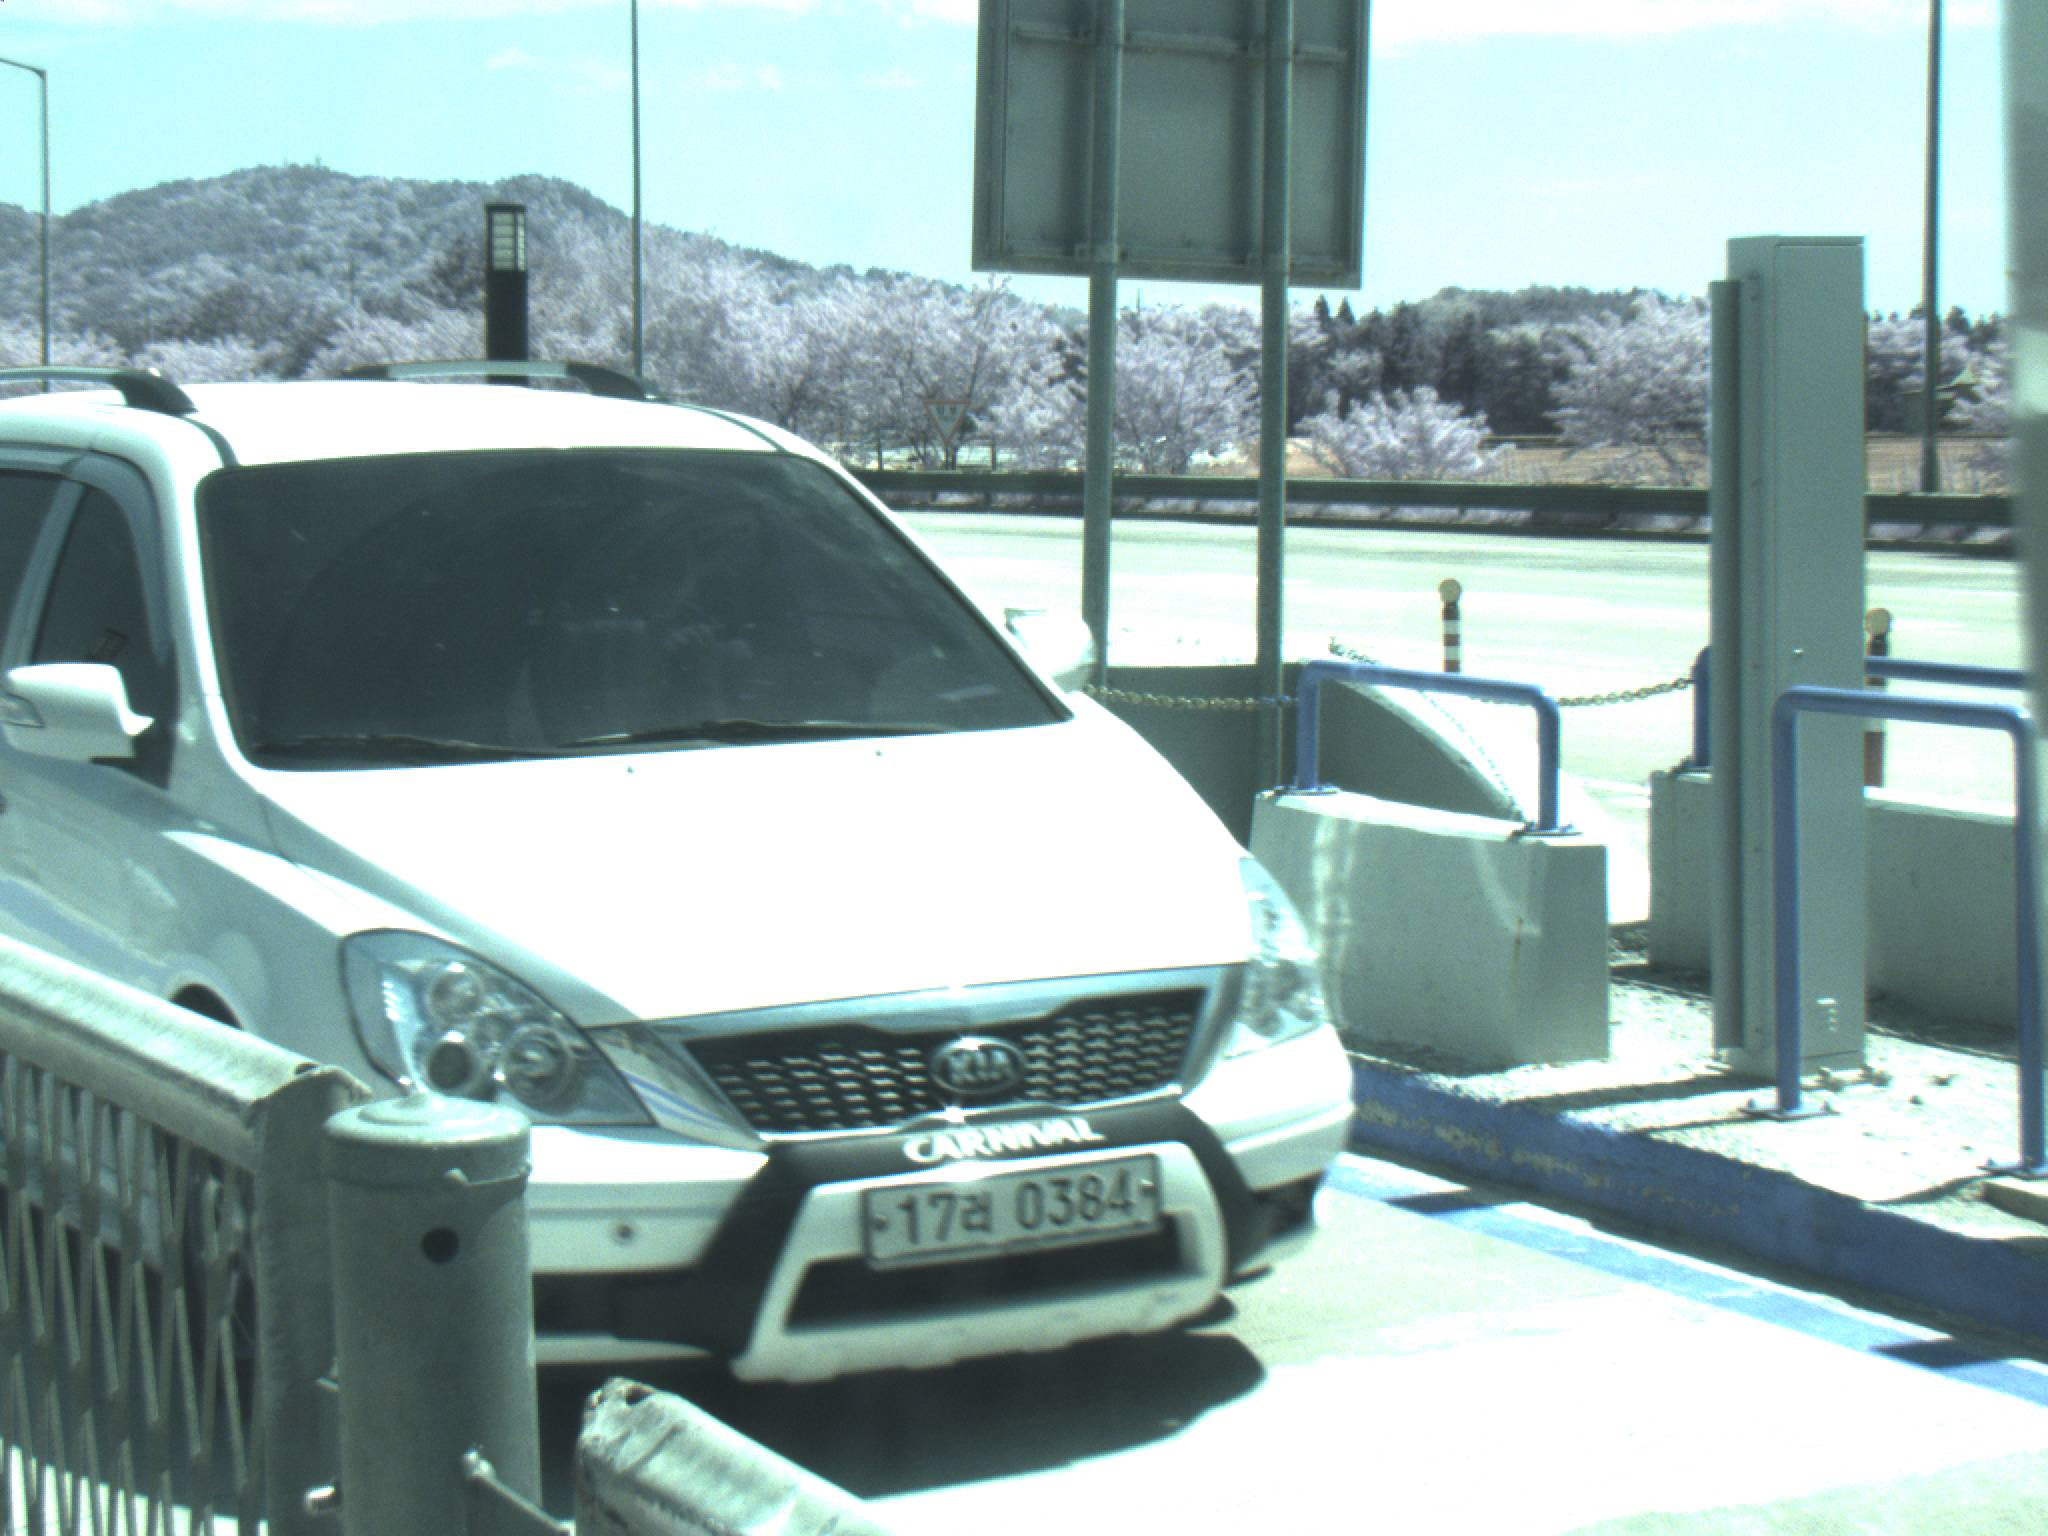car: (1, 345, 1357, 1447)
plate: (859, 1151, 1167, 1270)
